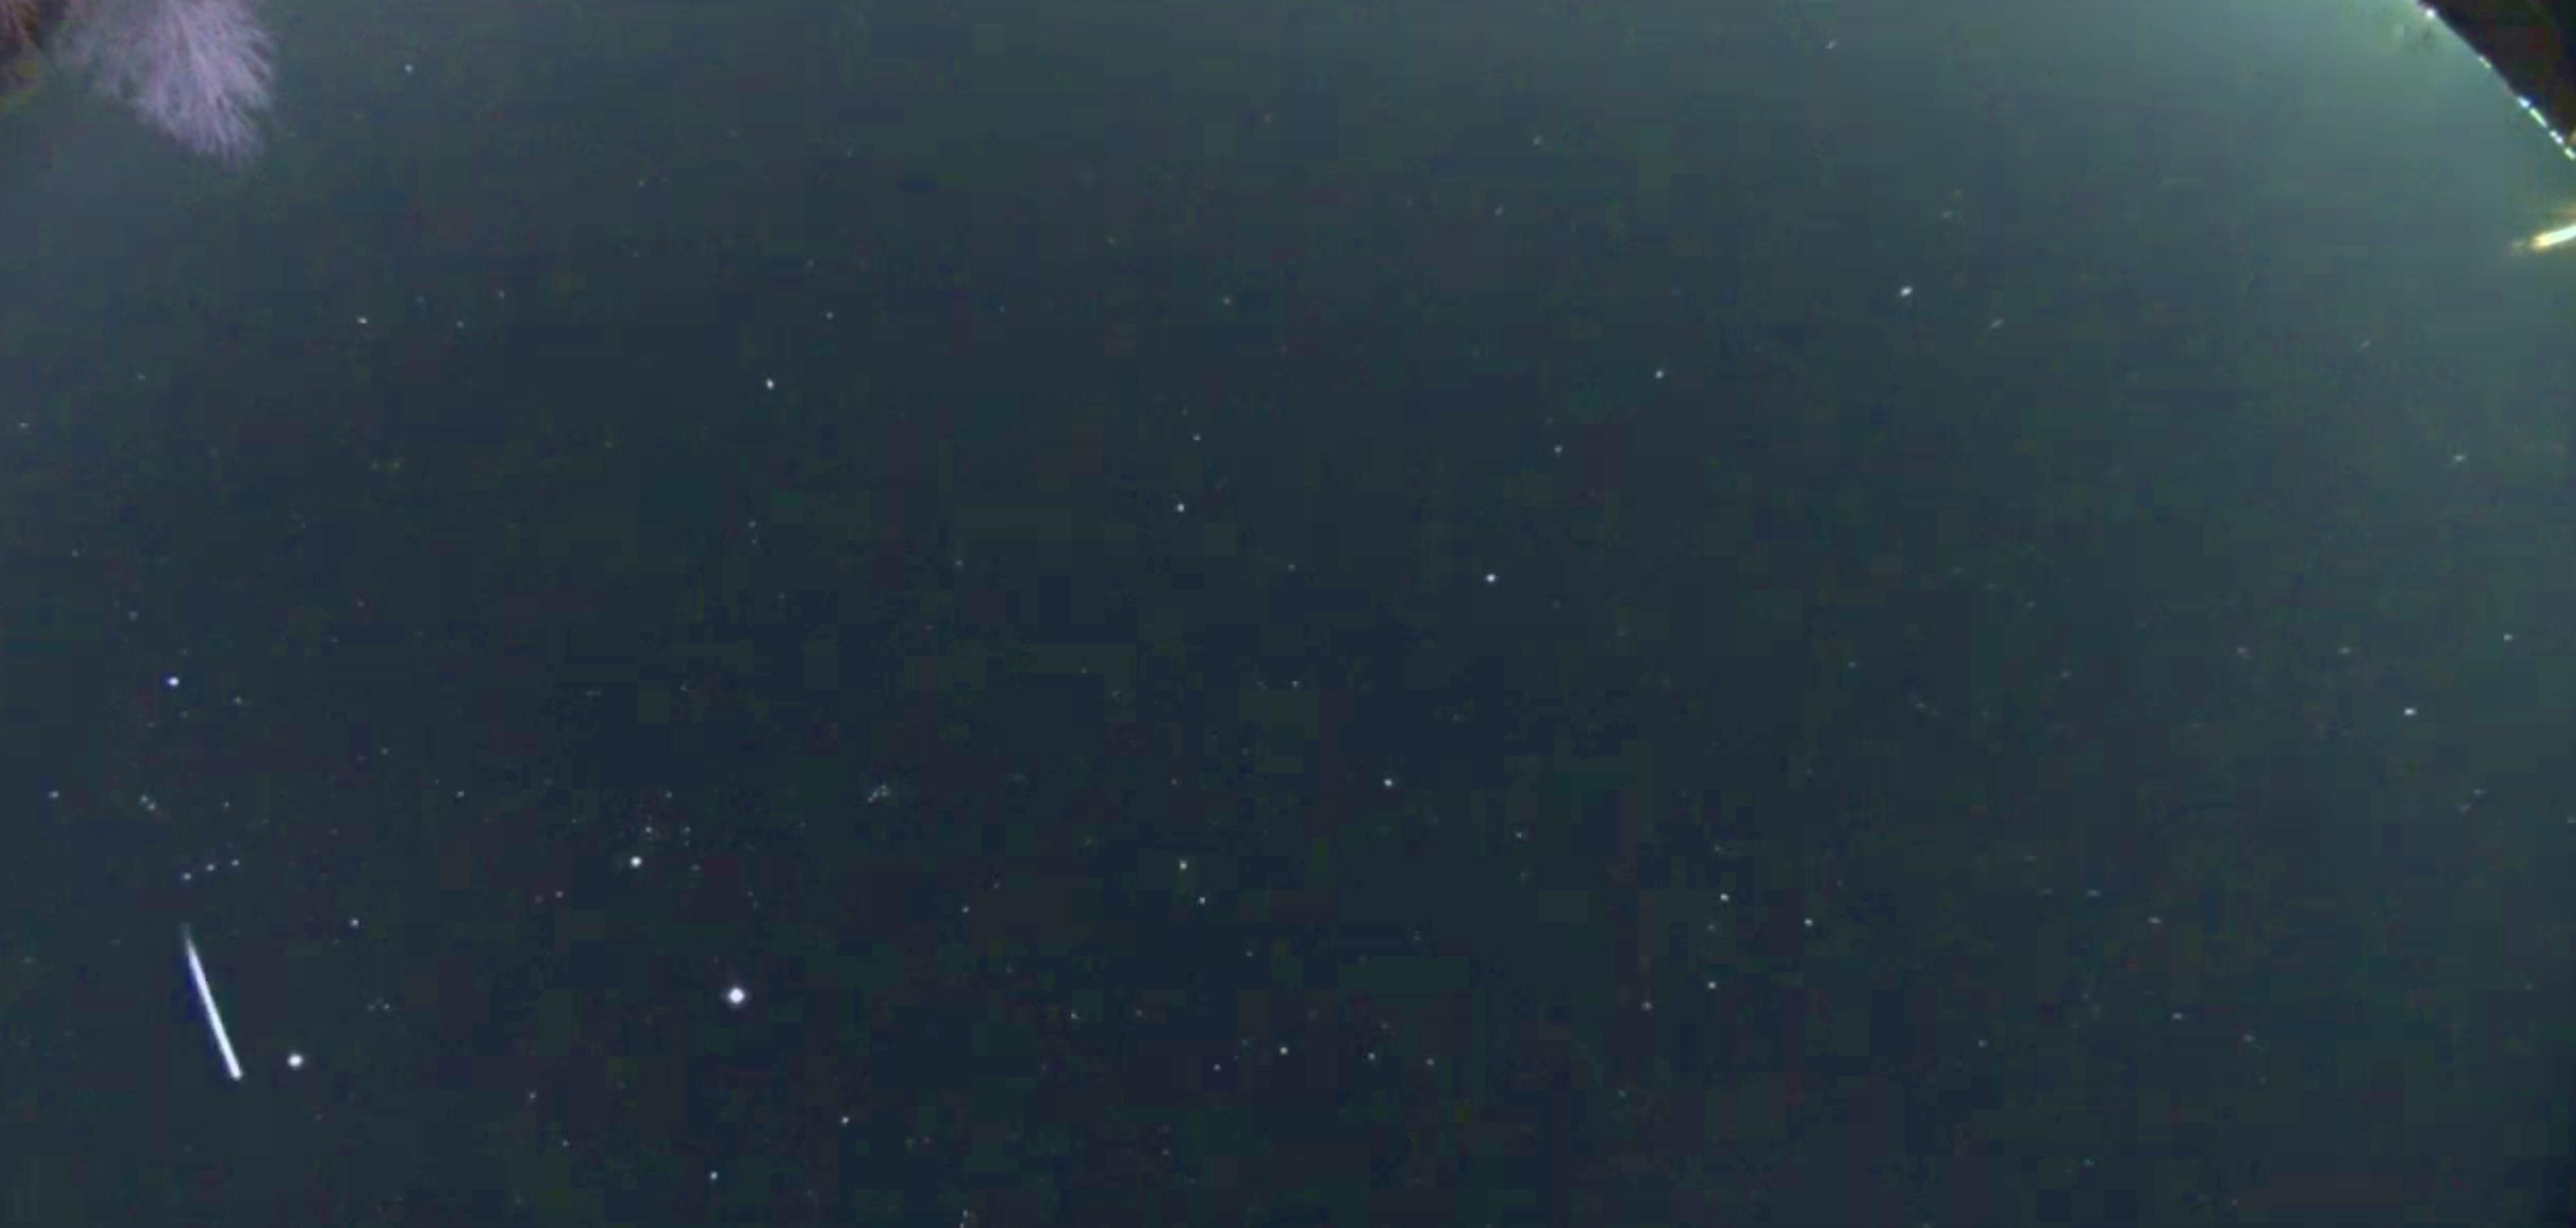meteorite: (128, 888, 299, 1108)
